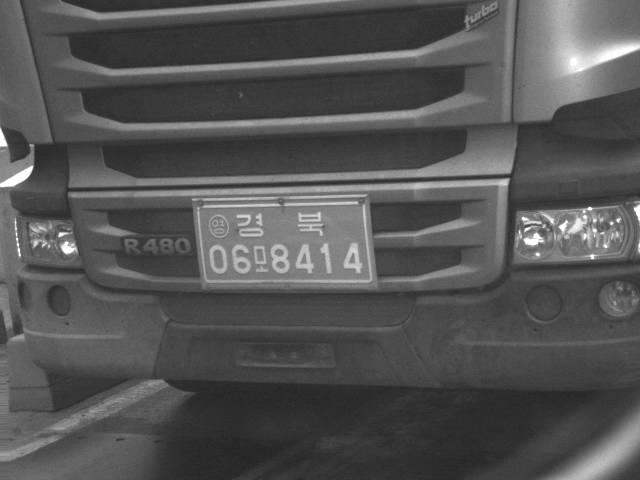car: (1, 1, 639, 398)
plate: (193, 198, 376, 286)
